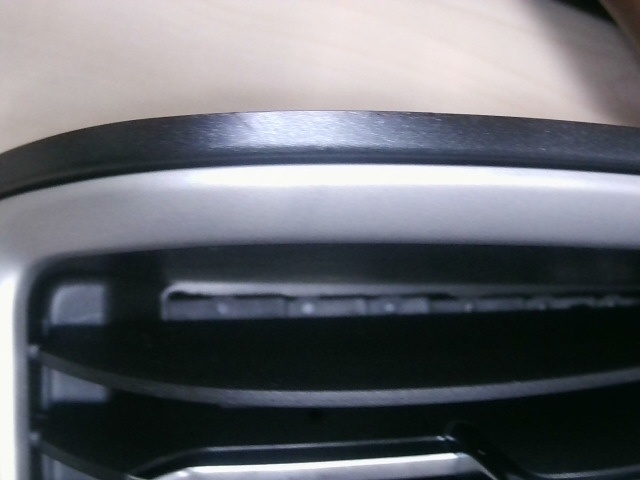NG: (224, 106, 263, 141)
